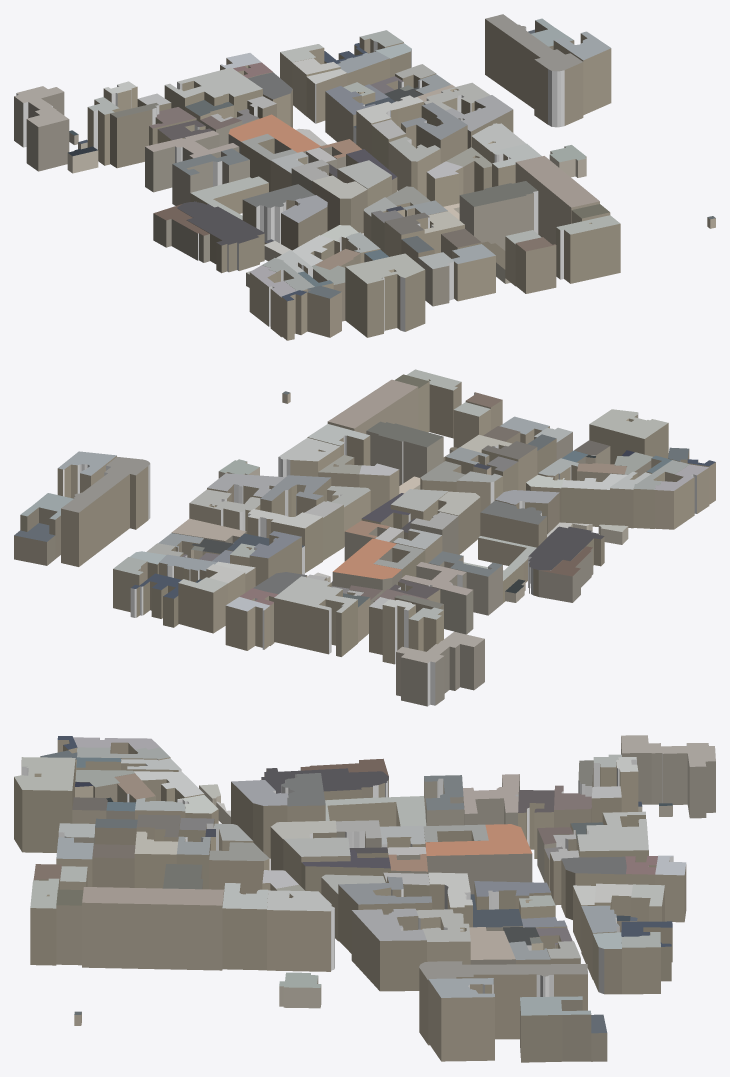
3 views of the same model, one above another, from view 1: azimuth 30°, elevation 25°; view 2: azimuth 150°, elevation 25°; view 3: azimuth 270°, elevation 25° (orthographic). The views are drawn at different scales.
Parts seen in each view (by area): view 1: tuile; view 2: tuile; view 3: tuile.
Part boxes in pixels (box(x1,y1,x2,y2)): tuile: box(14, 14, 715, 340); tuile: box(14, 369, 715, 706); tuile: box(14, 735, 715, 1062).
Bounding box in the file's own units: 265 × 31.86 × 280.
